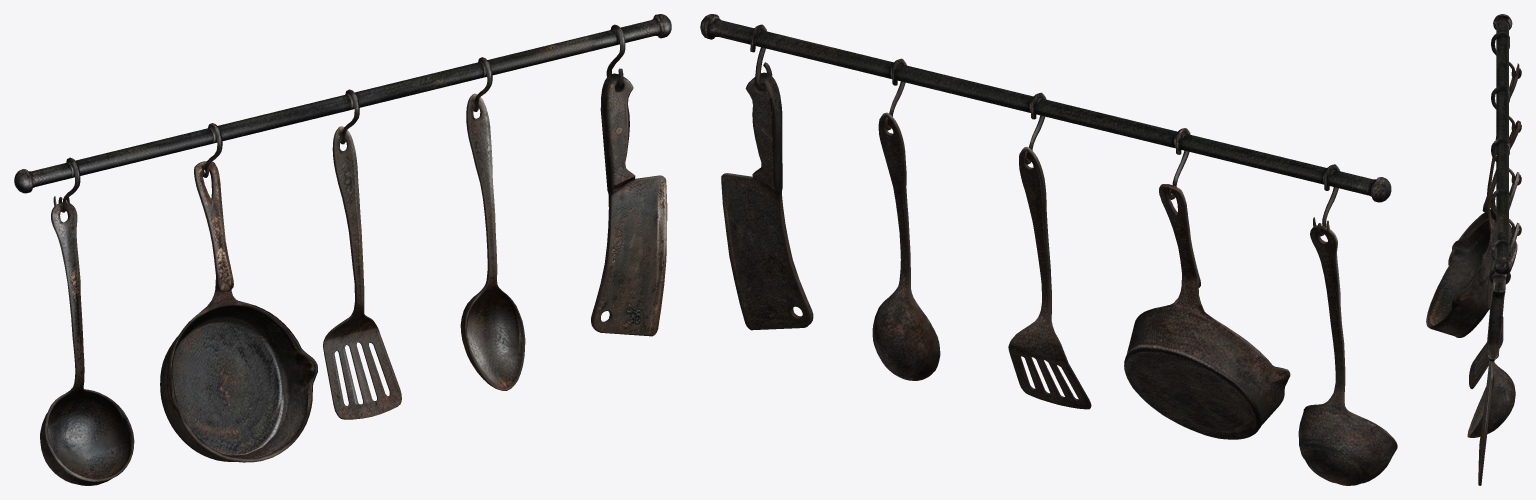
Rendered from bbqsmith_hanging_utensils.glb.
3 renders of one model, left to right at view 1: azimuth 30°, elevation 25°; view 2: azimuth 150°, elevation 25°; view 3: azimuth 270°, elevation 25°, orthographic. The views are drawn at different scales.
Parts seen in each view (by area): view 1: tripo_node_32fa0ede-458d-46a1-8ac0-eba5673cf32c; view 2: tripo_node_32fa0ede-458d-46a1-8ac0-eba5673cf32c; view 3: tripo_node_32fa0ede-458d-46a1-8ac0-eba5673cf32c.
Part boxes in pixels (left/top/right/bottom): tripo_node_32fa0ede-458d-46a1-8ac0-eba5673cf32c: left=14, top=14, right=671, bottom=485; tripo_node_32fa0ede-458d-46a1-8ac0-eba5673cf32c: left=700, top=14, right=1397, bottom=485; tripo_node_32fa0ede-458d-46a1-8ac0-eba5673cf32c: left=1426, top=14, right=1521, bottom=485.
Size of the model in its own units: 0.9995 by 0.4644 by 0.1626.
Materials: 1 (1 with a texture image).
